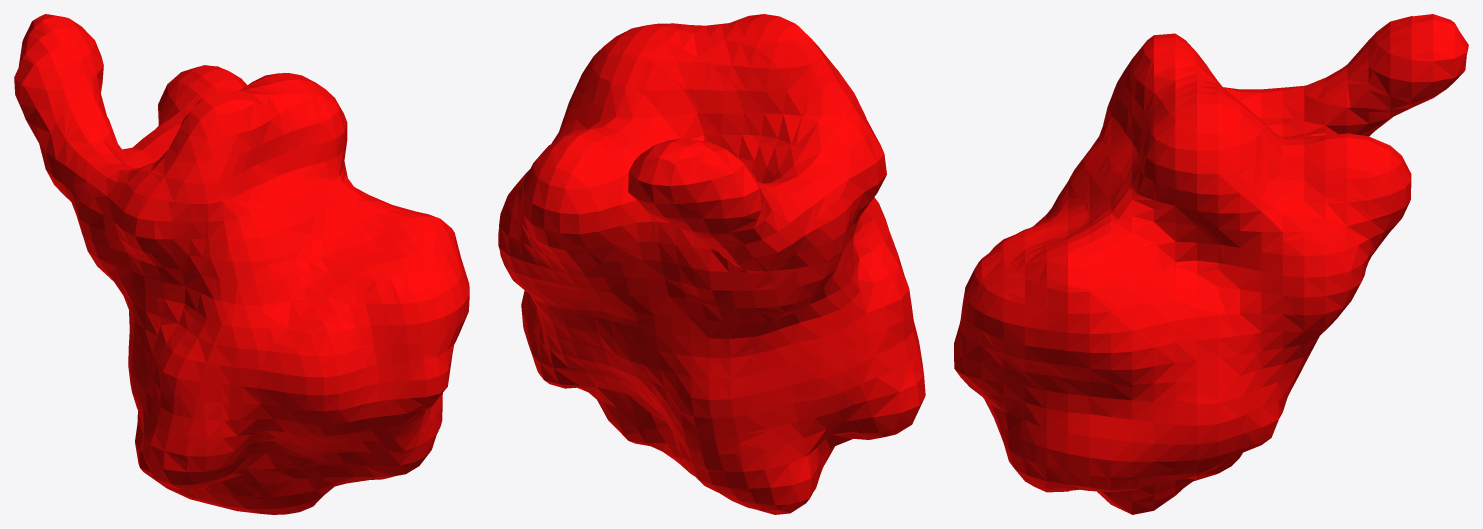
The model's file is ydfG_coarse.dae.
3 renders of one model, left to right at view 1: azimuth 30°, elevation 25°; view 2: azimuth 150°, elevation 25°; view 3: azimuth 270°, elevation 25°, orthographic. The views are drawn at different scales.
Visible parts, largest first — view 1: ydfG; view 2: ydfG; view 3: ydfG.
Boxes of the visible parts, left/top/right/bottom form: ydfG: left=14, top=14, right=469, bottom=514; ydfG: left=498, top=14, right=925, bottom=514; ydfG: left=954, top=14, right=1468, bottom=514.
Bounding box in the file's own units: 41.93 × 56.65 × 59.58.
